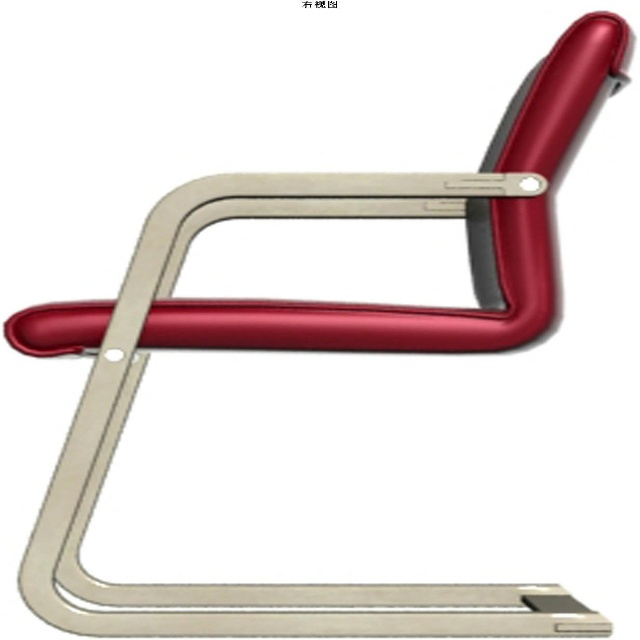obstacle: (82, 54, 638, 640), (2, 0, 638, 318), (0, 343, 111, 640)
